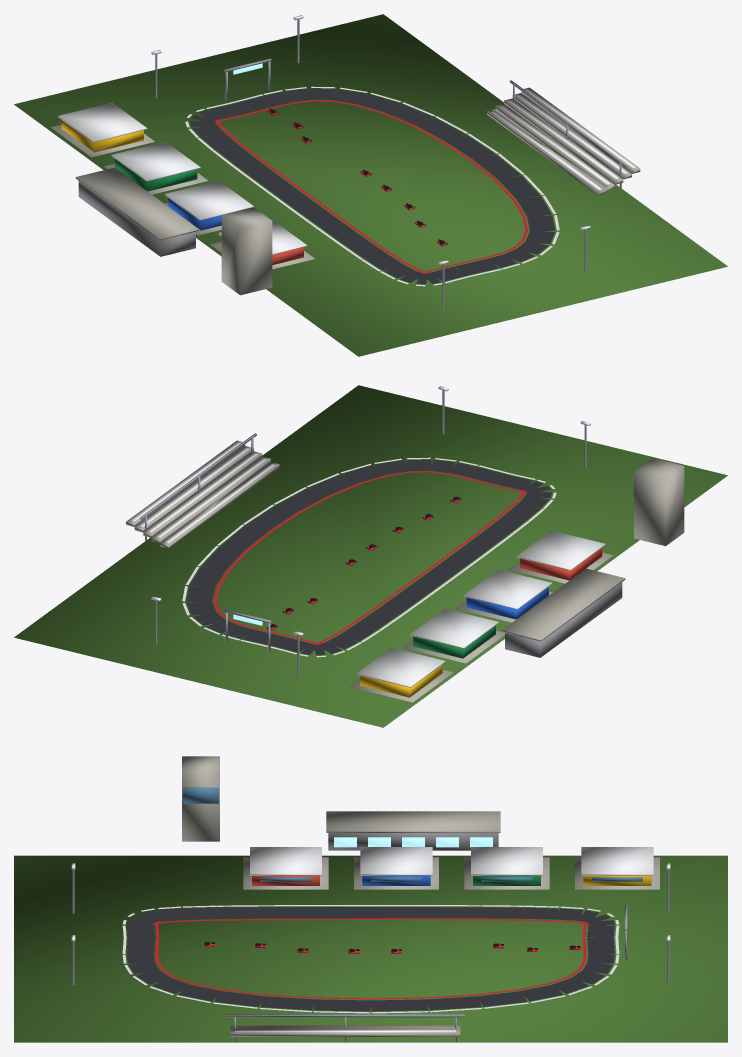
Rendered from paulistano_kartodromo_overlook.glb.
3 views of the same model, one above another, from view 1: azimuth 30°, elevation 25°; view 2: azimuth 150°, elevation 25°; view 3: azimuth 270°, elevation 25° (orthographic). The views are drawn at different scales.
Parts seen in each view (by area): view 1: Surface_grass, Surface_concrete, Surface_asphalt, Surface_kerb_white, Surface_concrete_dark, Surface_kerb_red, Surface_steel, Surface_tent_green, Surface_tent_yellow; view 2: Surface_grass, Surface_concrete, Surface_kerb_white, Surface_asphalt, Surface_concrete_dark, Surface_kerb_red, Surface_steel, Surface_tent_yellow, Surface_tent_green, Surface_tent_blue, Surface_tent_red; view 3: Surface_grass, Surface_asphalt, Surface_concrete, Surface_kerb_white, Surface_kerb_red, Surface_steel, Surface_concrete_dark, Surface_glass, Surface_screen, Surface_tent_yellow, Surface_tent_blue, Surface_tent_green (+1 smaller).
Part boxes in pixels (left/top/right/bottom): Surface_grass: left=14, top=14, right=727, bottom=356; Surface_concrete: left=50, top=87, right=640, bottom=295; Surface_asphalt: left=189, top=88, right=555, bottom=284; Surface_kerb_white: left=58, top=15, right=635, bottom=286; Surface_concrete_dark: left=78, top=181, right=195, bottom=256; Surface_kerb_red: left=214, top=100, right=528, bottom=273; Surface_steel: left=155, top=19, right=626, bottom=307; Surface_tent_green: left=115, top=159, right=197, bottom=191; Surface_tent_yellow: left=61, top=120, right=143, bottom=152; Surface_grass: left=14, top=385, right=727, bottom=727; Surface_concrete: left=126, top=440, right=684, bottom=702; Surface_kerb_white: left=130, top=386, right=605, bottom=687; Surface_asphalt: left=186, top=459, right=552, bottom=655; Surface_concrete_dark: left=505, top=582, right=622, bottom=657; Surface_kerb_red: left=213, top=471, right=527, bottom=644; Surface_steel: left=140, top=390, right=586, bottom=678; Surface_tent_yellow: left=360, top=664, right=442, bottom=697; Surface_tent_green: left=413, top=625, right=495, bottom=658; Surface_tent_blue: left=466, top=587, right=548, bottom=619; Surface_tent_red: left=520, top=548, right=602, bottom=580; Surface_grass: left=14, top=855, right=727, bottom=1042; Surface_asphalt: left=127, top=907, right=614, bottom=1011; Surface_concrete: left=182, top=756, right=659, bottom=1036; Surface_kerb_white: left=71, top=847, right=670, bottom=1032; Surface_kerb_red: left=153, top=918, right=588, bottom=999; Surface_steel: left=72, top=869, right=669, bottom=1042; Surface_concrete_dark: left=328, top=833, right=498, bottom=850; Surface_glass: left=183, top=787, right=642, bottom=881; Surface_screen: left=334, top=837, right=492, bottom=847; Surface_tent_yellow: left=583, top=875, right=651, bottom=885; Surface_tent_blue: left=362, top=875, right=430, bottom=885; Surface_tent_green: left=473, top=875, right=540, bottom=885.
Bounding box in the file's own units: 122 × 21.02 × 168.
